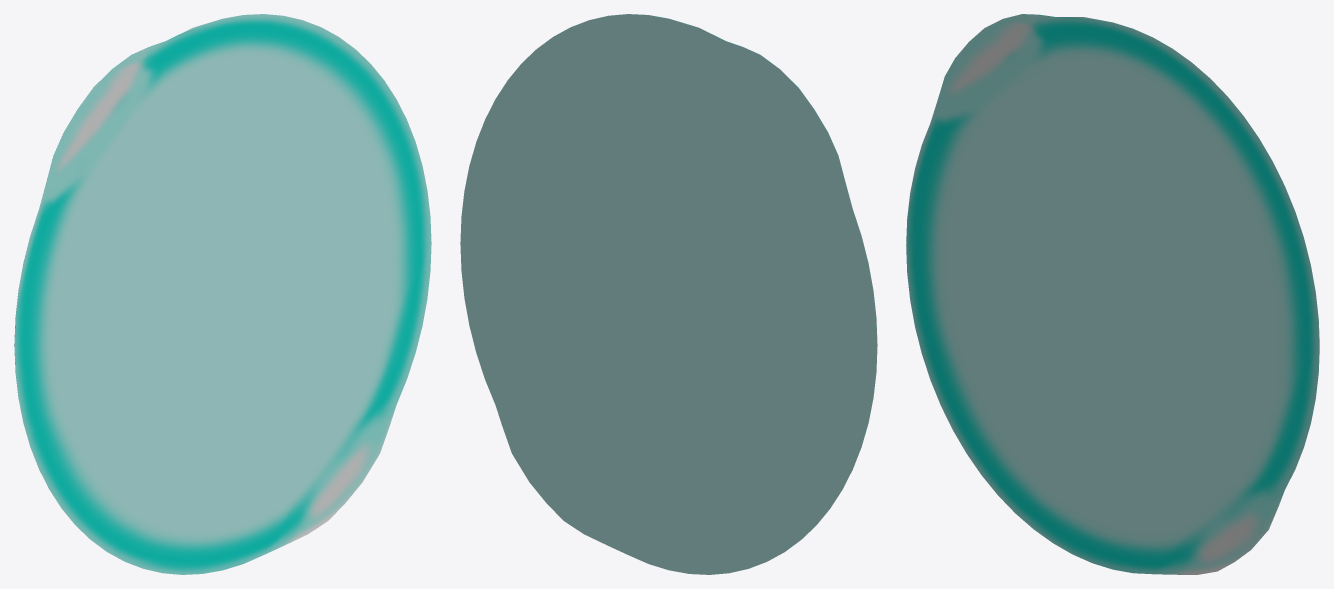
Rendered from Immune.glb.
3 views of the same model, side by side, from view 1: azimuth 30°, elevation 25°; view 2: azimuth 150°, elevation 25°; view 3: azimuth 330°, elevation 25° (orthographic).
Parts seen in each view (by area): view 1: Circle.010; view 2: Circle.010; view 3: Circle.010.
Part boxes in pixels (x1,y1,x2,y2): Circle.010: (14, 14, 431, 574); Circle.010: (460, 14, 877, 574); Circle.010: (906, 14, 1319, 574).
Bounding box in the file's own units: 6.19 × 7.83 × 0.002.
Materials: 1 (1 with a texture image).
